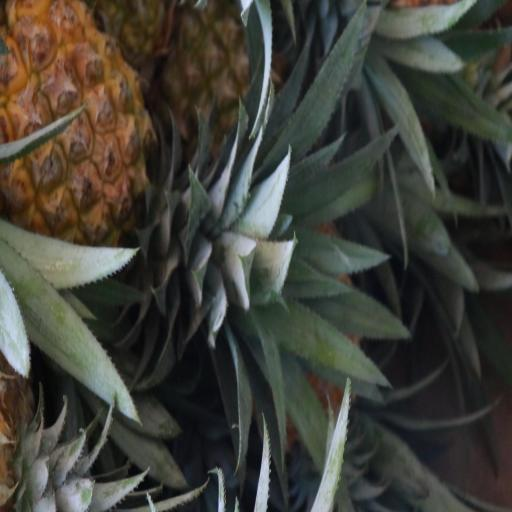Pineapple - v8 v1: (0, 0, 177, 254)
